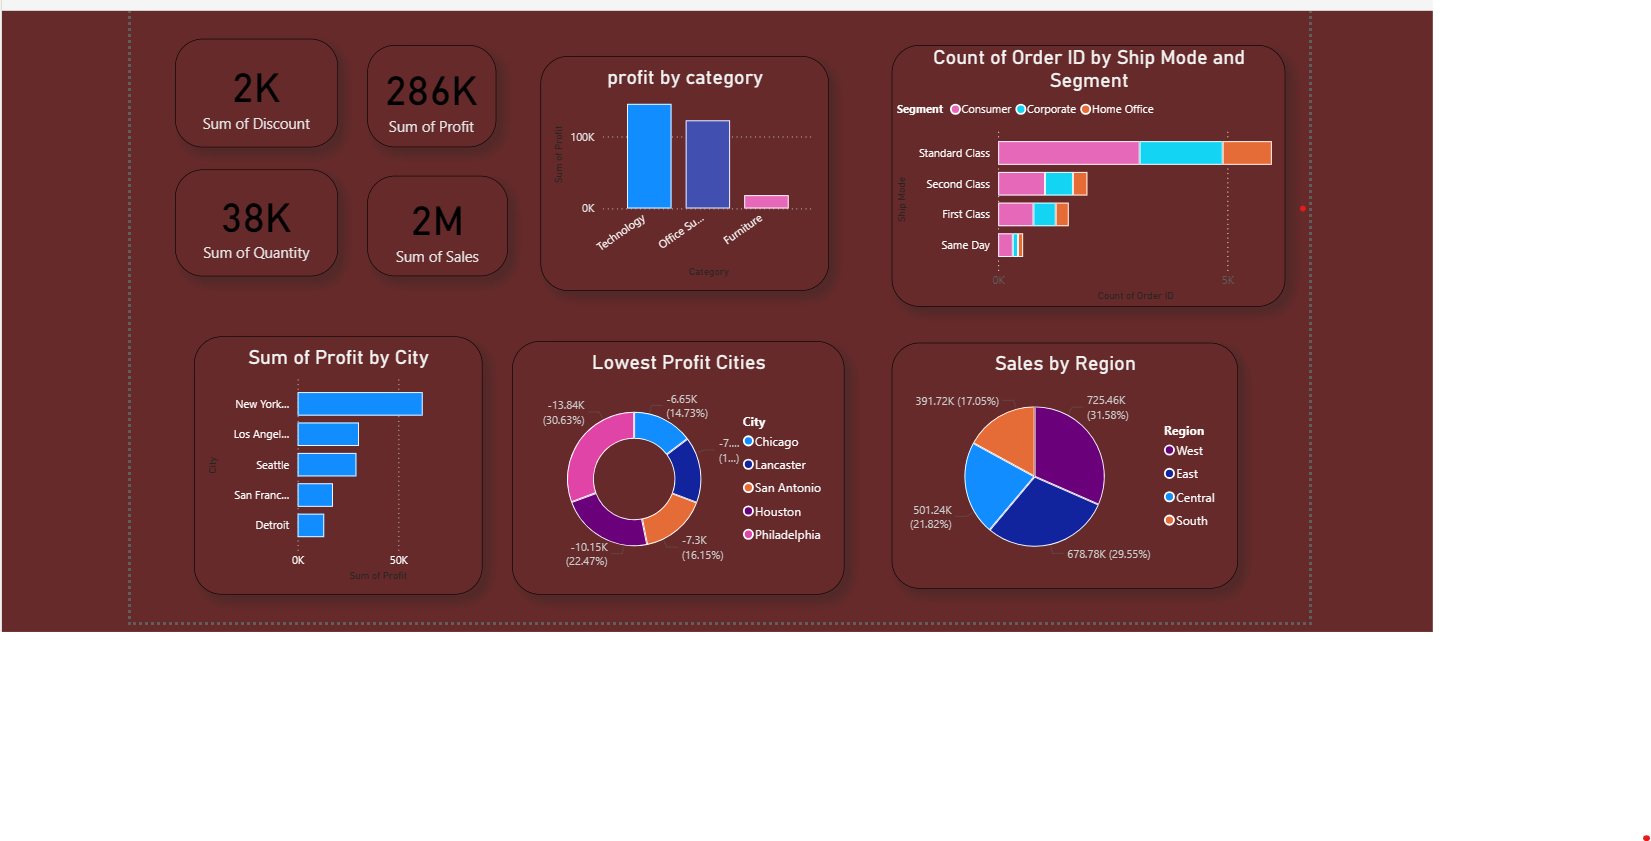

Layout of this report page (visuals, bound fields, positions):
{"tool":"powerbi","page":{"name":"Page 1","canvas":[1280,720],"ordinal":0},"visuals":[{"type":"pieChart","title":"Sales by Region","fields":{"Category":["cleaned_data.Region"],"Y":["Sum(cleaned_data.Sales)"]},"box":[827.4,415.9,376.5,267],"z":0},{"type":"columnChart","title":"profit by category","fields":{"Category":["cleaned_data.Category"],"Y":["Sum(cleaned_data.Profit)"]},"box":[445.2,104.5,313.4,255.1],"z":1},{"type":"clusteredBarChart","fields":{"Category":["cleaned_data.City"],"Y":["Sum(cleaned_data.Profit)"]},"box":[68.5,409.3,313.4,280.8],"z":2},{"type":"donutChart","title":"Lowest Profit Cities ","fields":{"Category":["cleaned_data.City"],"Y":["Sum(cleaned_data.Profit)"]},"box":[413.7,413.7,361.2,275.8],"z":3},{"type":"card","fields":{"Values":["Sum(cleaned_data.Profit)"]},"box":[256.9,92.5,140.4,111.3],"z":4},{"type":"barChart","fields":{"Category":["cleaned_data.Ship Mode"],"Series":["cleaned_data.Segment"],"Y":["CountNonNull(cleaned_data.Order ID)"]},"box":[827.1,92.5,428.1,284.3],"z":6},{"type":"card","fields":{"Values":["Sum(cleaned_data.Discount)"]},"box":[48.2,85.4,177.3,118.2],"z":7},{"type":"card","fields":{"Values":["Sum(cleaned_data.Sales)"]},"box":[256.1,234.2,153.2,109.4],"z":9},{"type":"card","fields":{"Values":["Sum(cleaned_data.Quantity)"]},"box":[48.2,227.6,177.3,116],"z":10}]}

Visuals, with their boxes on the page's 1280x720 design canvas (x1, y1, x2, y2). These are canvas units, not pixel positions in the 1651x841 screenshot, which may show the page scaled, cropped or inside an application window:
"Sales by Region" pieChart: x1=827, y1=416, x2=1204, y2=683
"profit by category" columnChart: x1=445, y1=104, x2=759, y2=360
clusteredBarChart - cleaned_data.City x Sum(cleaned_data.Profit): x1=68, y1=409, x2=382, y2=690
"Lowest Profit Cities " donutChart: x1=414, y1=414, x2=775, y2=690
card - Sum(cleaned_data.Profit): x1=257, y1=92, x2=397, y2=204
barChart - cleaned_data.Ship Mode x cleaned_data.Segment: x1=827, y1=92, x2=1255, y2=377
card - Sum(cleaned_data.Discount): x1=48, y1=85, x2=226, y2=204
card - Sum(cleaned_data.Sales): x1=256, y1=234, x2=409, y2=344
card - Sum(cleaned_data.Quantity): x1=48, y1=228, x2=226, y2=344
